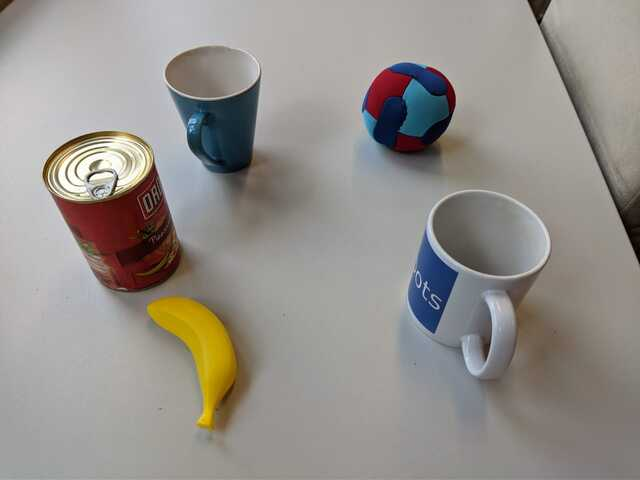005_tomato_soup_can: (41, 130, 184, 294)
011_banana: (147, 295, 240, 431)
025_mug: (407, 188, 552, 380), (162, 46, 270, 174)
057_racquetball: (360, 61, 459, 152)
